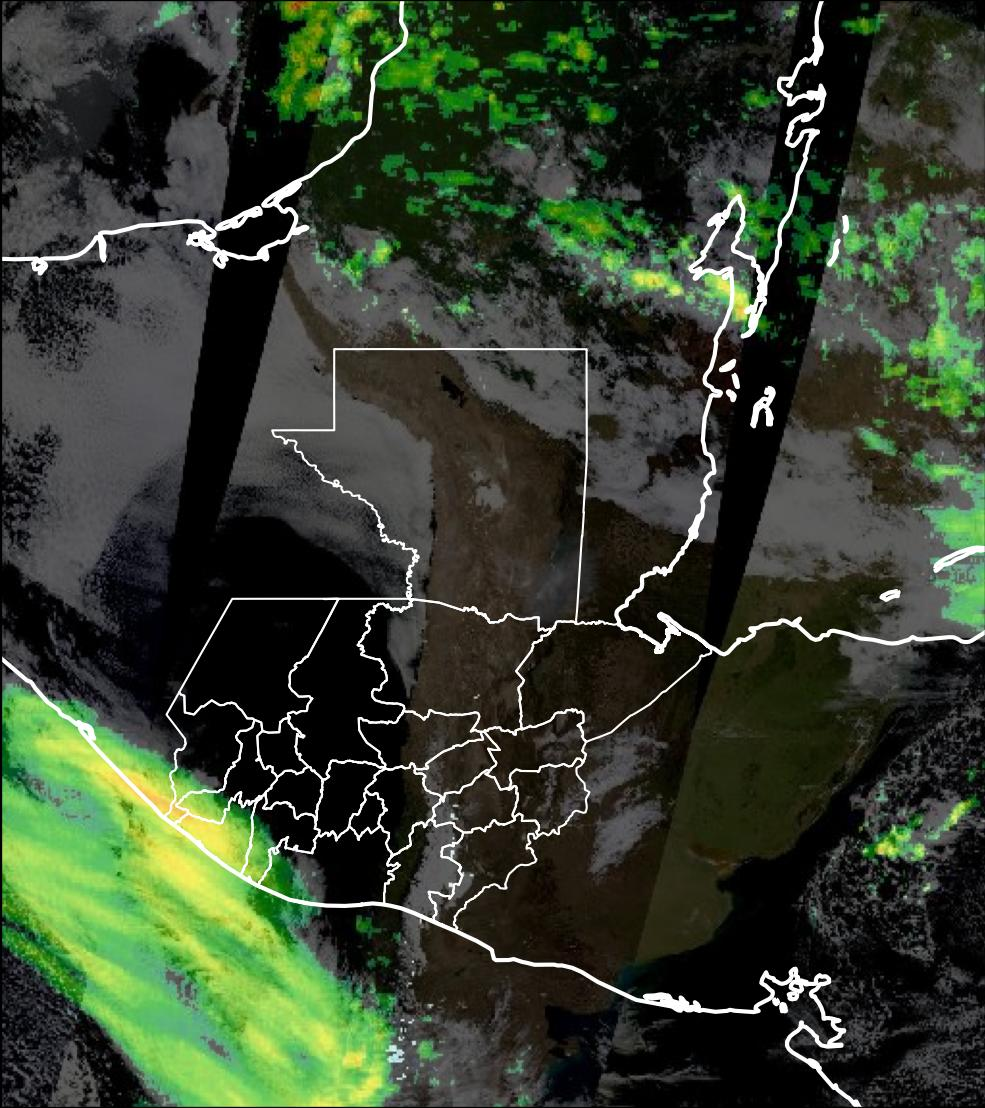precipitacion: (104, 757, 233, 857)
